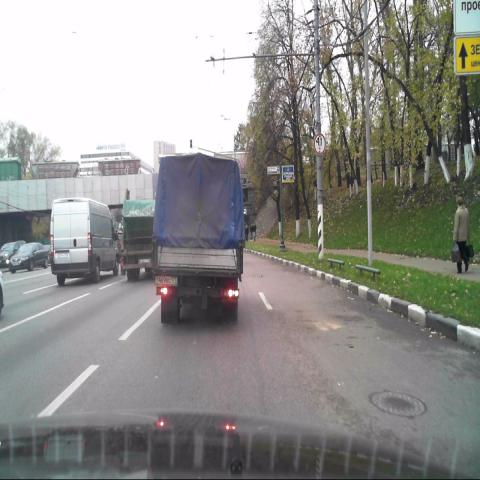3_13: (314, 132, 326, 156)
